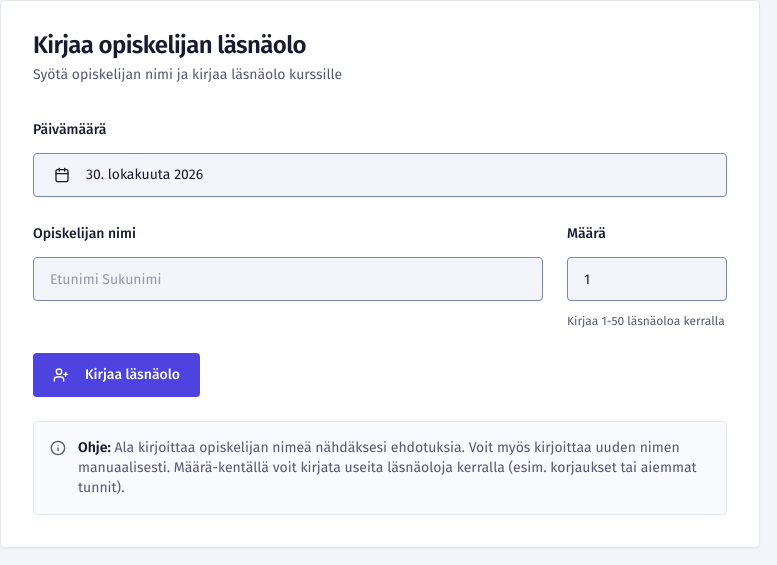
it: AttendanceTracking Component › should clear input fields after successful submission
Type "John Doe" into the dropdown labelled "Opiskelijan nimi" at (288, 279), box 33,257 -> 543,301
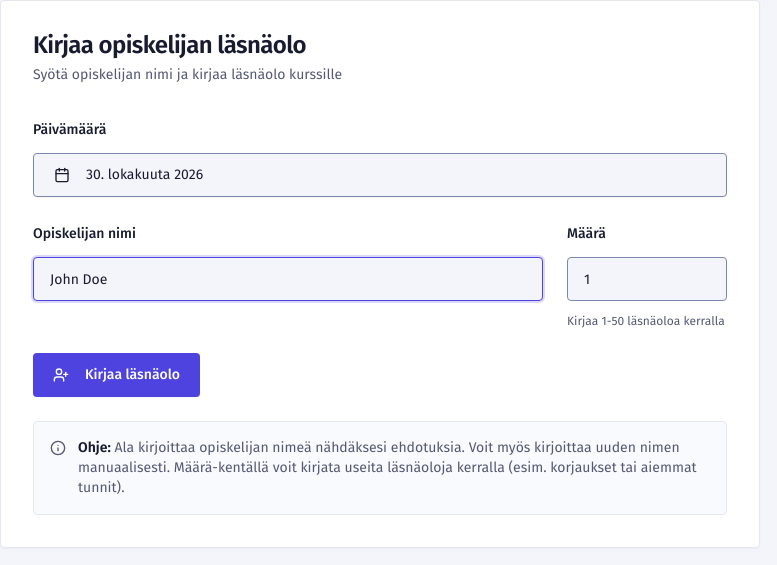
Replace the text in the number field labelled "Määrä" with "3" at (647, 279), box 567,257 -> 727,301
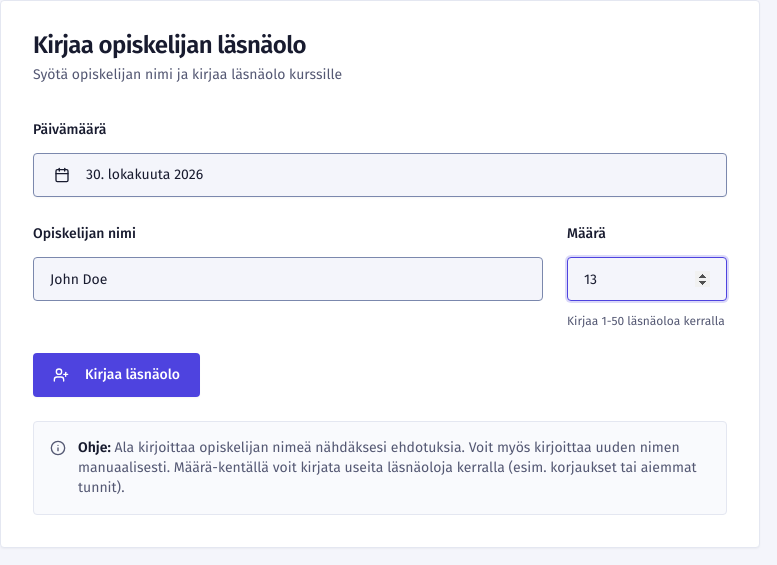
Click the button "Kirjaa läsnäolo" at (116, 375), box 33,353 -> 200,397
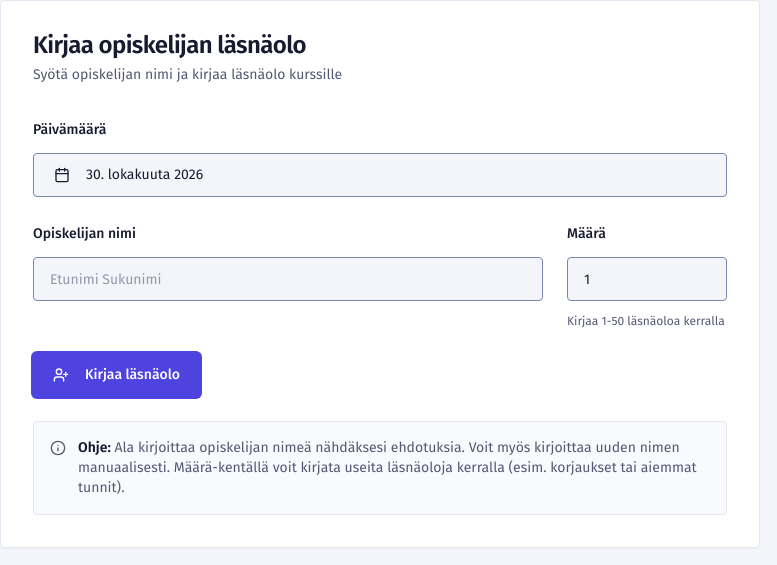
Expected: the dropdown labelled "Opiskelijan nimi" is empty, 33,257 -> 543,301
Expected: the number field labelled "Määrä" holds "1", 567,257 -> 727,301
